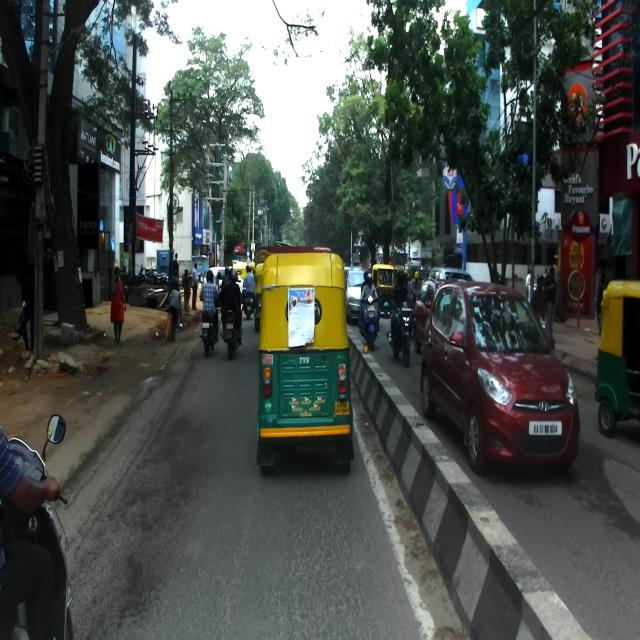auto ahead at: (258, 254, 357, 471)
car ahead at: (423, 279, 582, 477)
